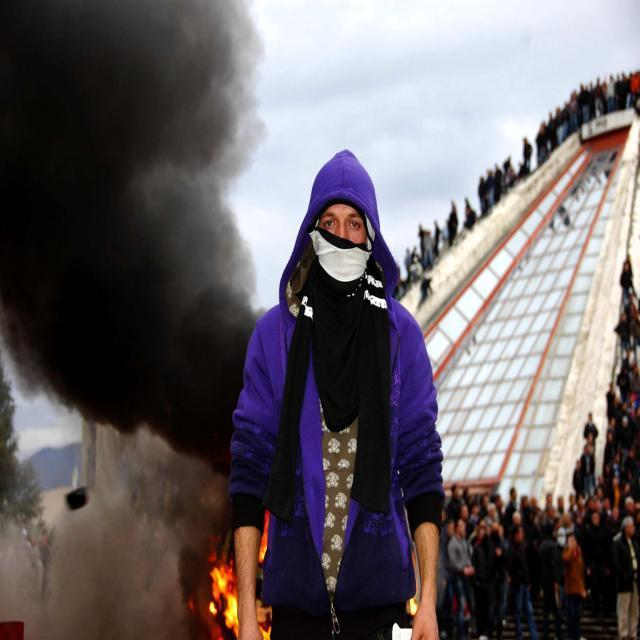Fire: (202, 545, 238, 637)
Smoke: (0, 0, 239, 454), (11, 462, 191, 640)
